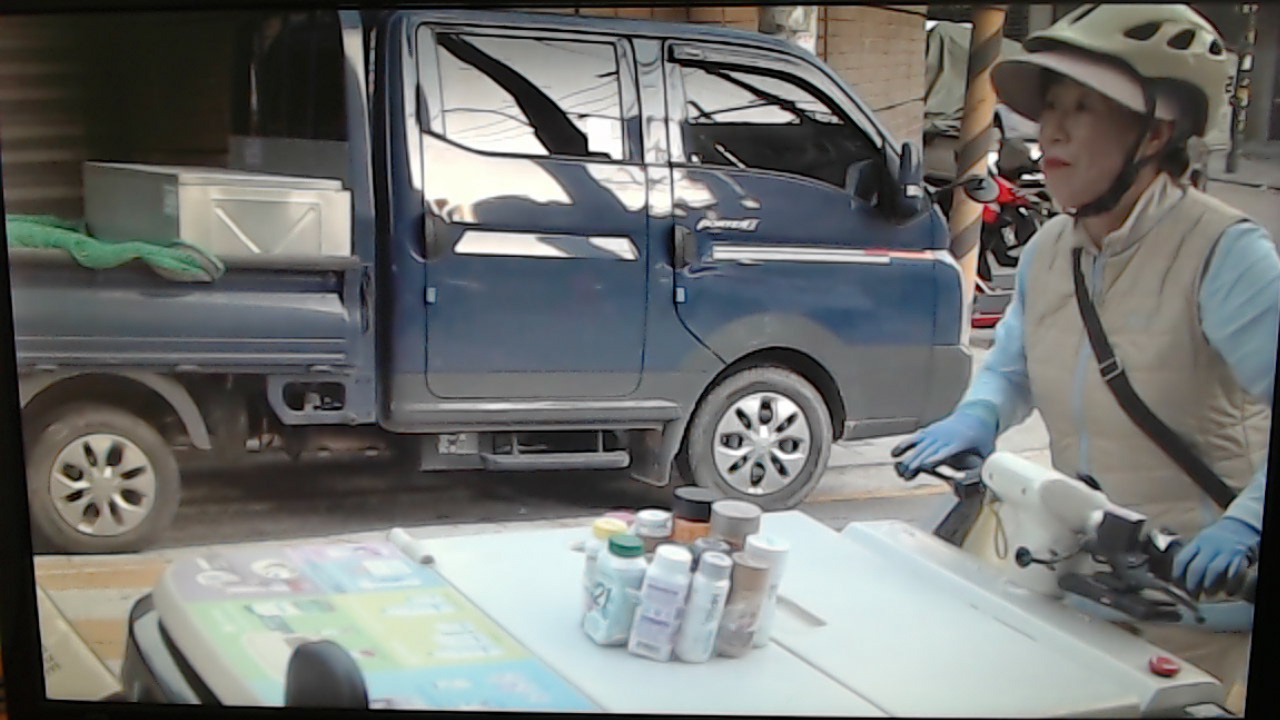Yakurut: (893, 7, 1280, 606)
